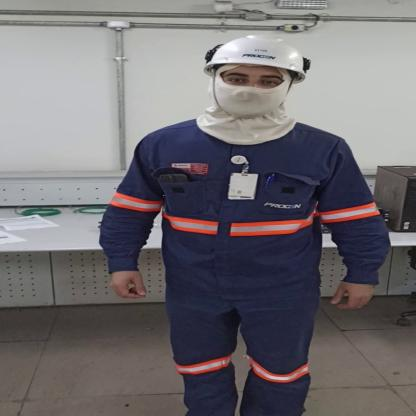Balaclava: (198, 69, 298, 142)
Capacete: (200, 35, 313, 75)
